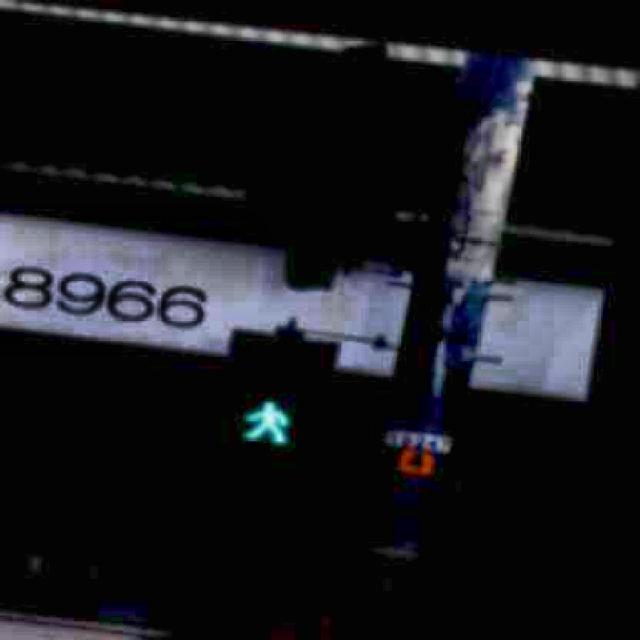semaforo pedestre: (178, 289, 396, 517)
